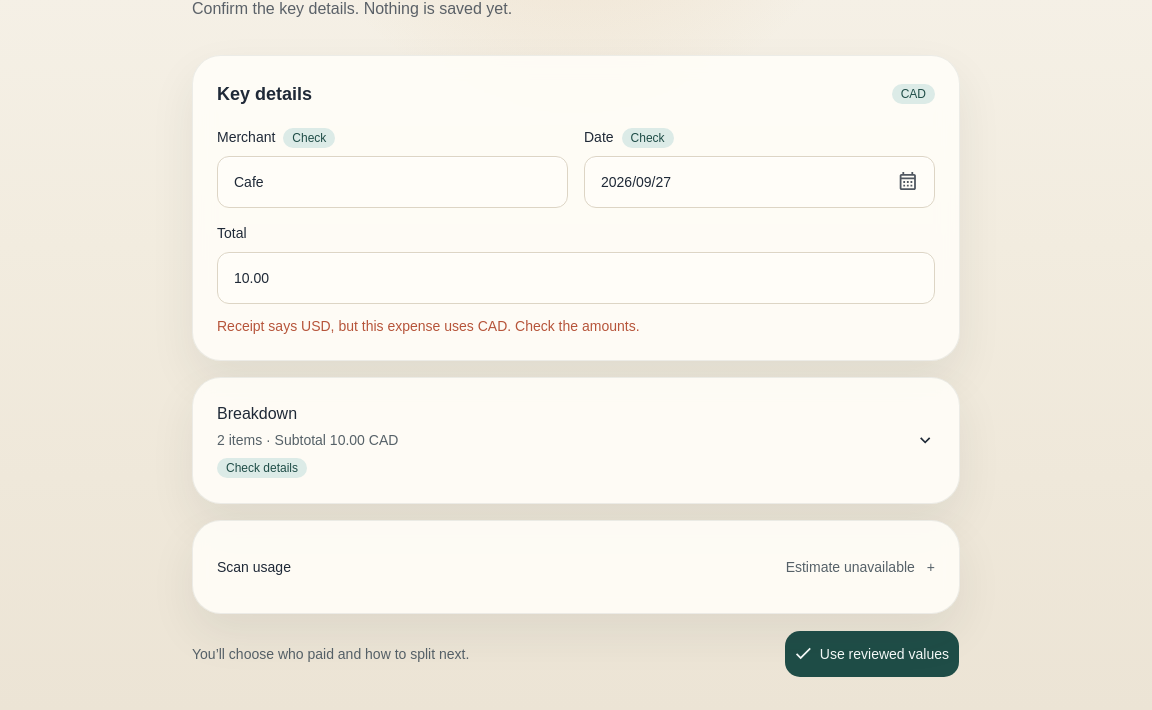
Test: ReceiptDraftReview › shows unavailable usage without claiming zero cost
(page scrolled)
What coordinates should you click on to do the following:
click the heading "Scan usage Estimate unavailable +"
I would click on:
 (254, 567)
Its box is [217,558,935,574].
(page scrolled)
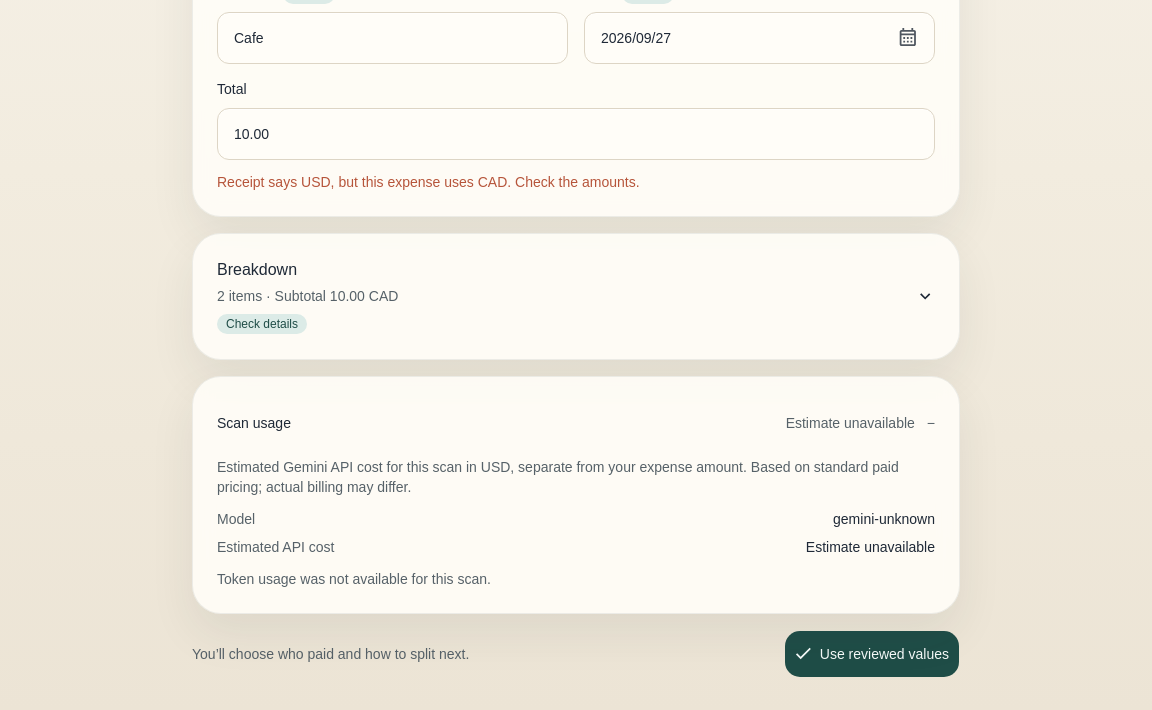
Now the text "Token usage was not available for this scan." is shown, box [217,570,491,586]
